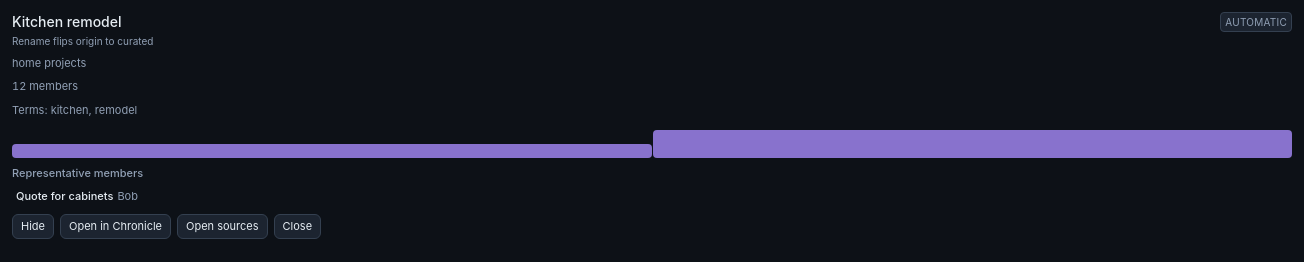
Scenario: InspectorPanel flow › rename → curated flow with tooltip
The image size is (1304, 262).
Click the button with test id "topic-label": (67, 22) [12,12,122,32]
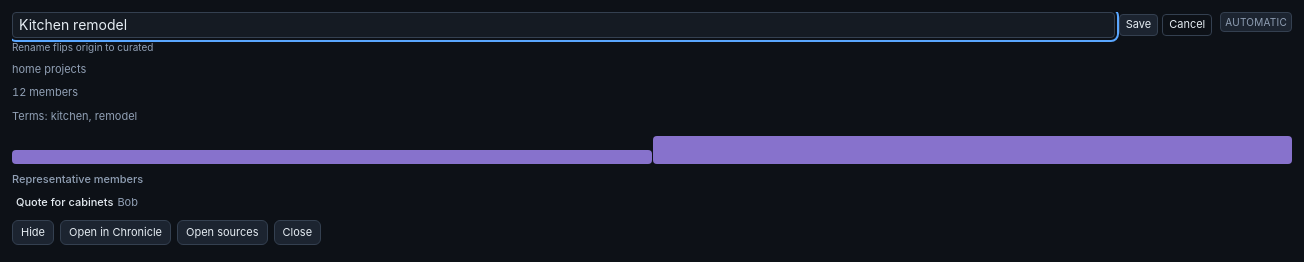
Replace the text in the field with test id "topic-rename-input" with "Home kitchen": (563, 25) [12,12,1115,38]
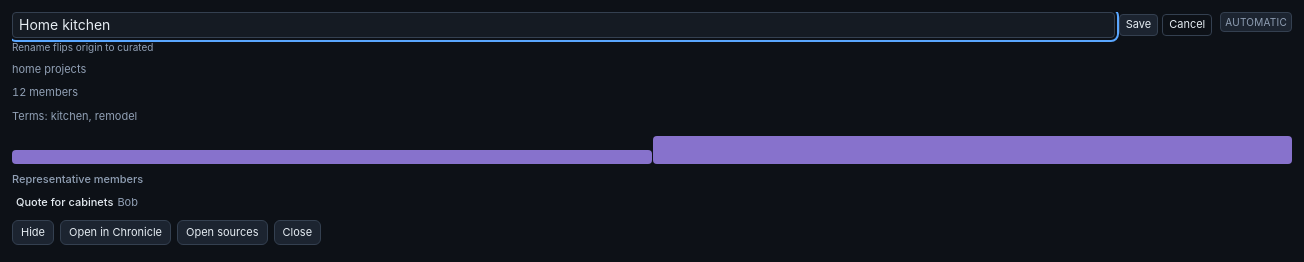
Submit the form with test id "topic-rename-form", box [12,12,1212,38]
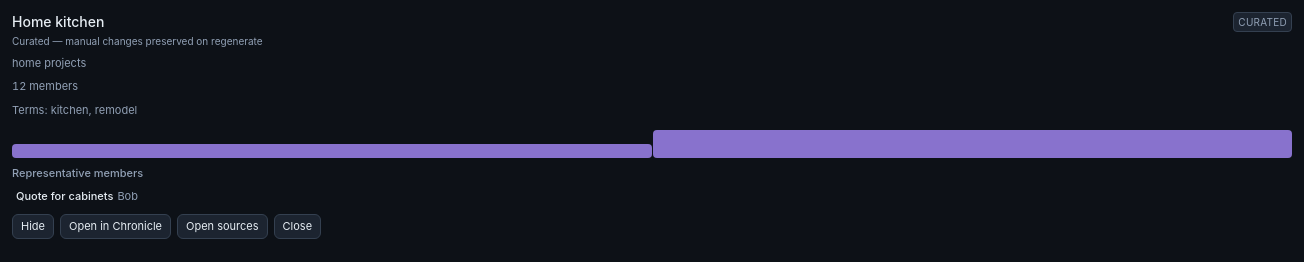
expect the text with test id "topic-rename-tooltip" shows "Curated": met, box [12,35,263,47]
expect the text with test id "topic-origin-badge" reads "Curated": met, box [1238,16,1287,28]
